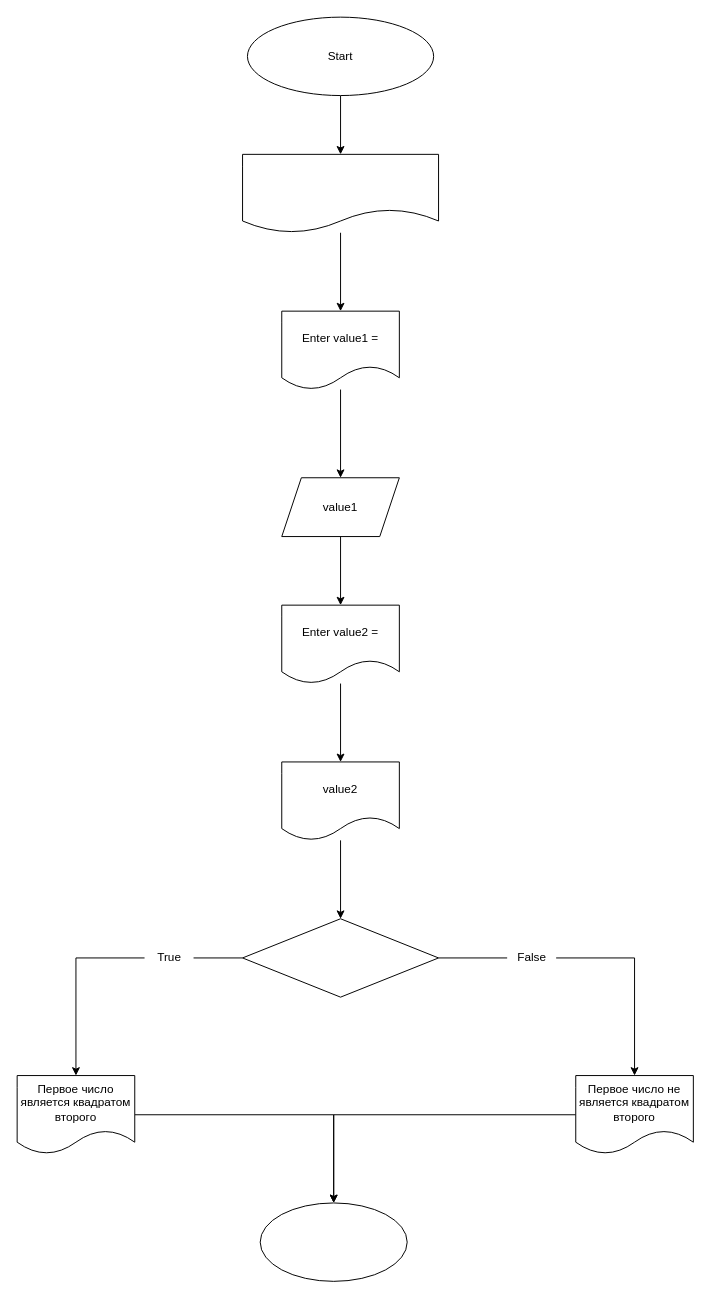
This 711x1299 diagram has some shape labels left out. Each missing label, with the centre of its shape:
End: the point at 333,1241
value2 ^ 2 == value1: the point at 340,957
По двум заданным числам проверять является ли первое квадратом второго: the point at 340,193
